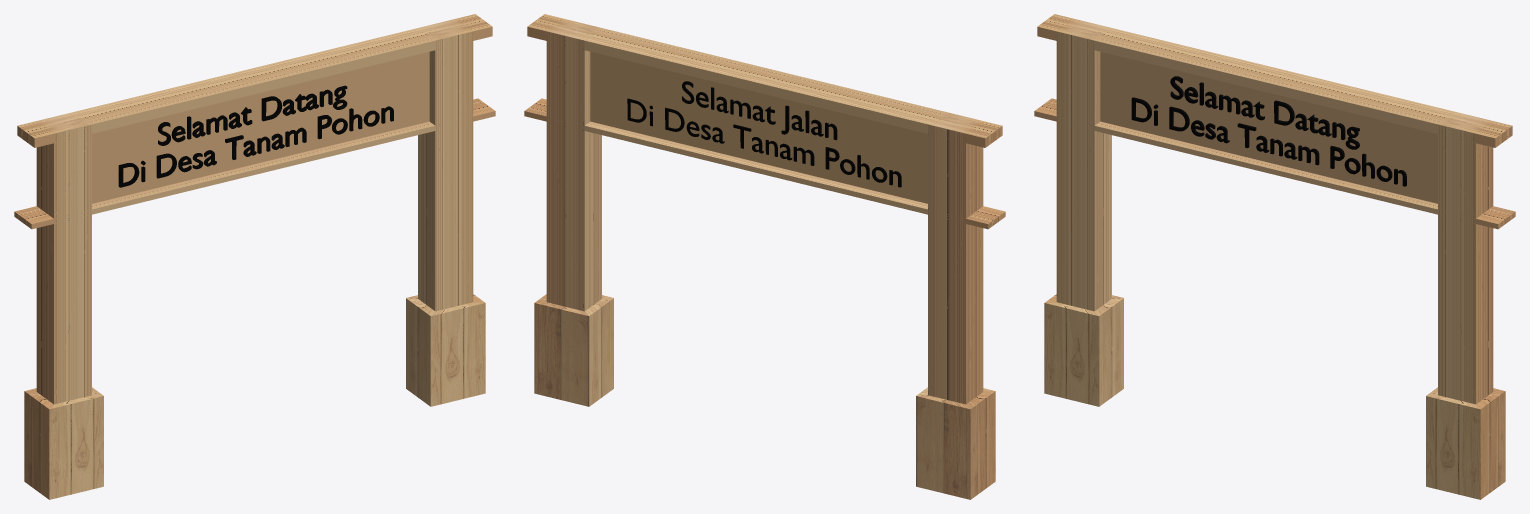
The model's file is gapura.fbx.
3 renders of one model, left to right at view 1: azimuth 30°, elevation 25°; view 2: azimuth 150°, elevation 25°; view 3: azimuth 330°, elevation 25°, orthographic.
Visible parts, largest first — view 1: Cube, Text; view 2: Cube, Text.001; view 3: Cube, Text.
Boxes of the visible parts, <box> form: Cube: <box>14,14,495,499</box>; Text: <box>118,85,393,187</box>; Cube: <box>524,14,1005,499</box>; Text.001: <box>627,81,901,187</box>; Cube: <box>1034,14,1515,499</box>; Text: <box>1131,76,1406,186</box>.
Bounding box in the file's own units: 2146 × 1597 × 200.
Materials: 4 (3 with a texture image).
